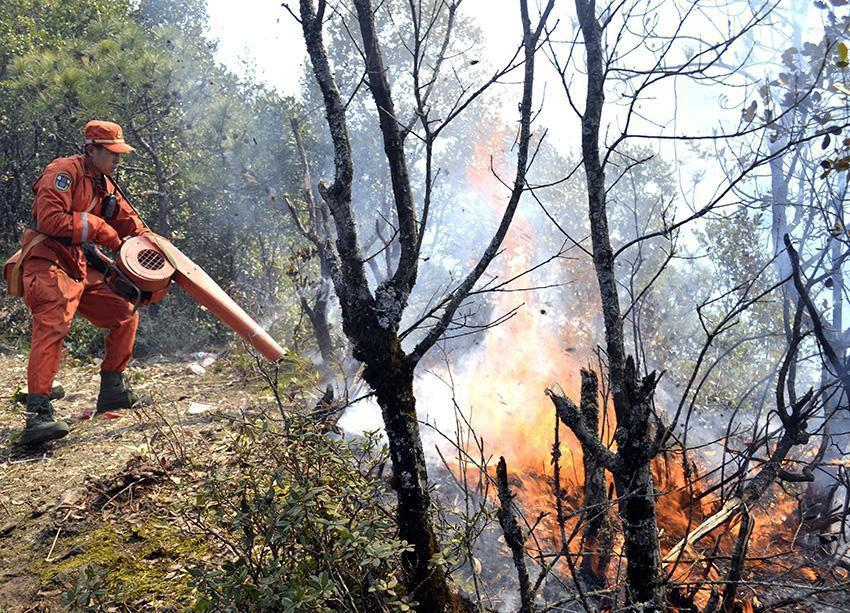fire: (443, 150, 625, 585), (650, 431, 800, 595)
